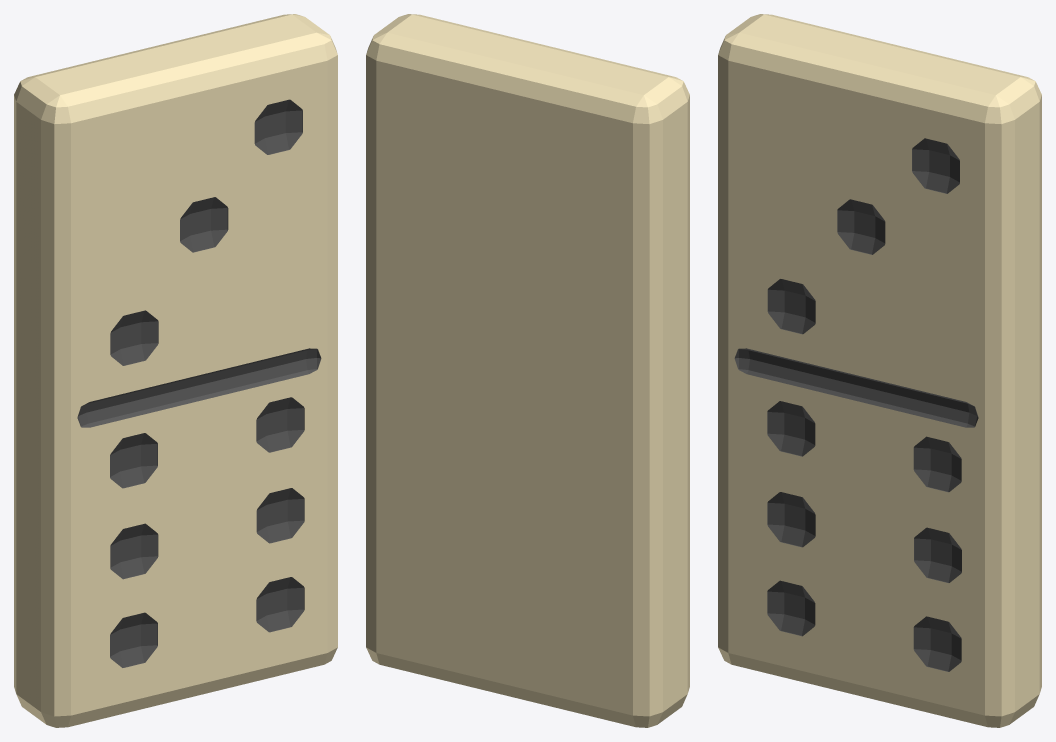
The model's file is dominoes 6x3.fbx.
3 views of the same model, side by side, from view 1: azimuth 30°, elevation 25°; view 2: azimuth 150°, elevation 25°; view 3: azimuth 330°, elevation 25° (orthographic).
Parts seen in each view (by area): view 1: Boole_20; view 2: Boole_20; view 3: Boole_20.
Boxes of the visible parts, box(x1,y1,x2,y2) form: Boole_20: box(14, 14, 337, 727); Boole_20: box(366, 14, 689, 727); Boole_20: box(718, 14, 1041, 727).
Bounding box in the file's own units: 200 × 410 × 55.02.
